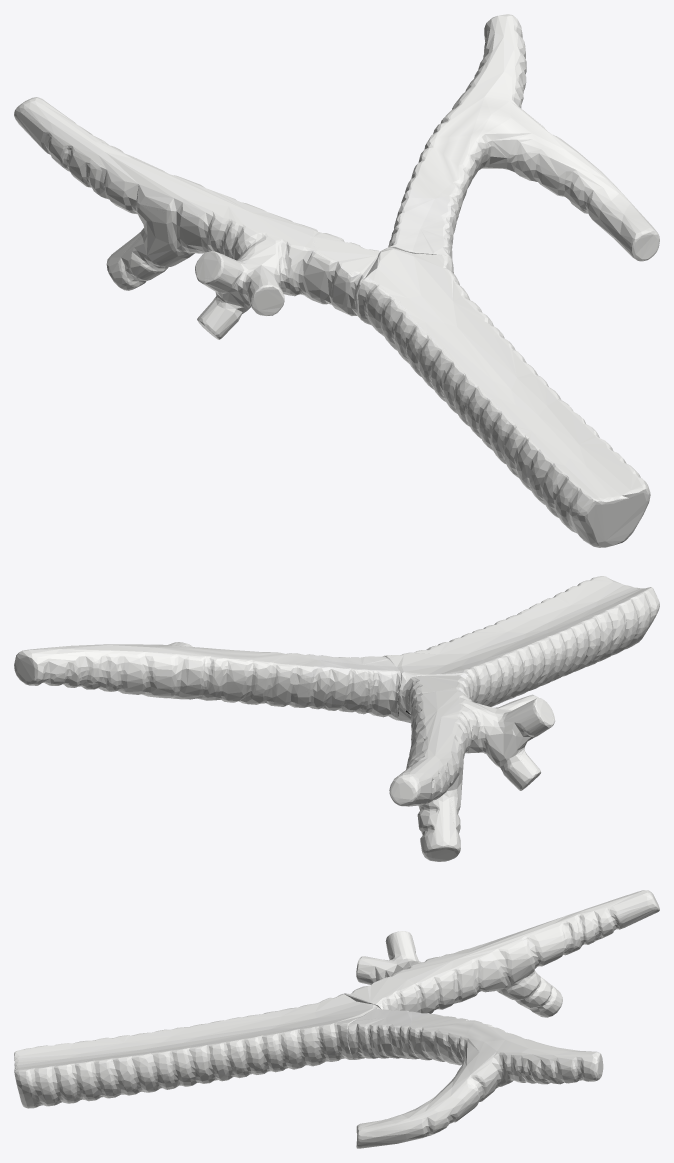
The model's file is SubTool-0-8307278.OBJ.
The picture shows the model from 3 angles, top to bottom: view 1: azimuth 30°, elevation 25°; view 2: azimuth 150°, elevation 25°; view 3: azimuth 270°, elevation 25°; orthographic projection. The views are drawn at different scales.
Visible parts, largest first — view 1: Group31744, Group15873; view 2: Group31744, Group15873; view 3: Group31744, Group15873.
Boxes of the visible parts, <box> form: Group31744: <box>358,14,659,547</box>; Group15873: <box>14,97,379,339</box>; Group31744: <box>14,576,659,723</box>; Group15873: <box>389,673,555,861</box>; Group31744: <box>14,993,603,1148</box>; Group15873: <box>344,890,659,1017</box>.
Size of the model in its own units: 123 by 49.13 by 191.
1 material, 1 textured.
